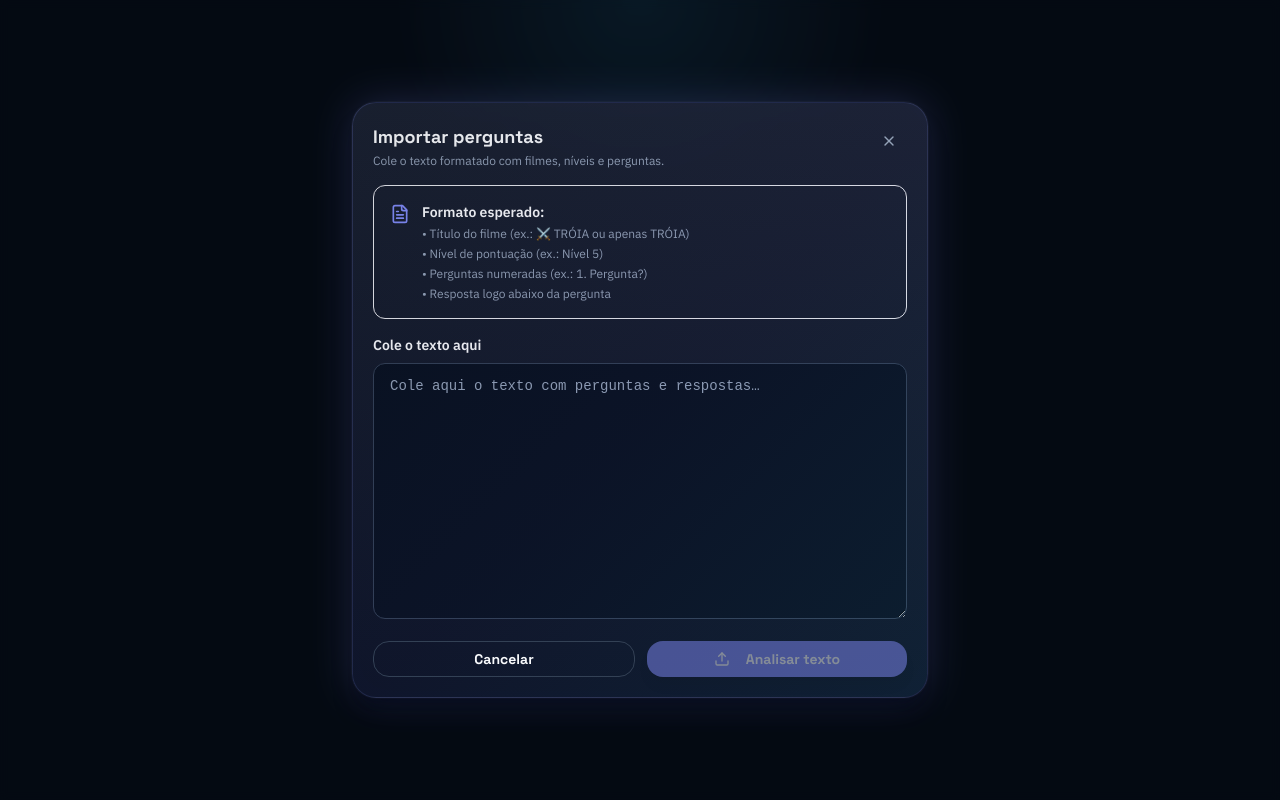
Scenario: QuestionImportModal › Parsing de Texto › deve identificar múltiplos filmes
The width and height of the screenshot is (1280, 800).
Type "⚔️ TRÓIA Nível 5 1. Pergunta 1? Resposta 1 LILO & STITCH Nível 10 1. Pergunta 2? Resposta 2" into the text box with placeholder "Cole aqui o texto com perguntas e respostas…" at (640, 491), box 373,363 -> 907,619
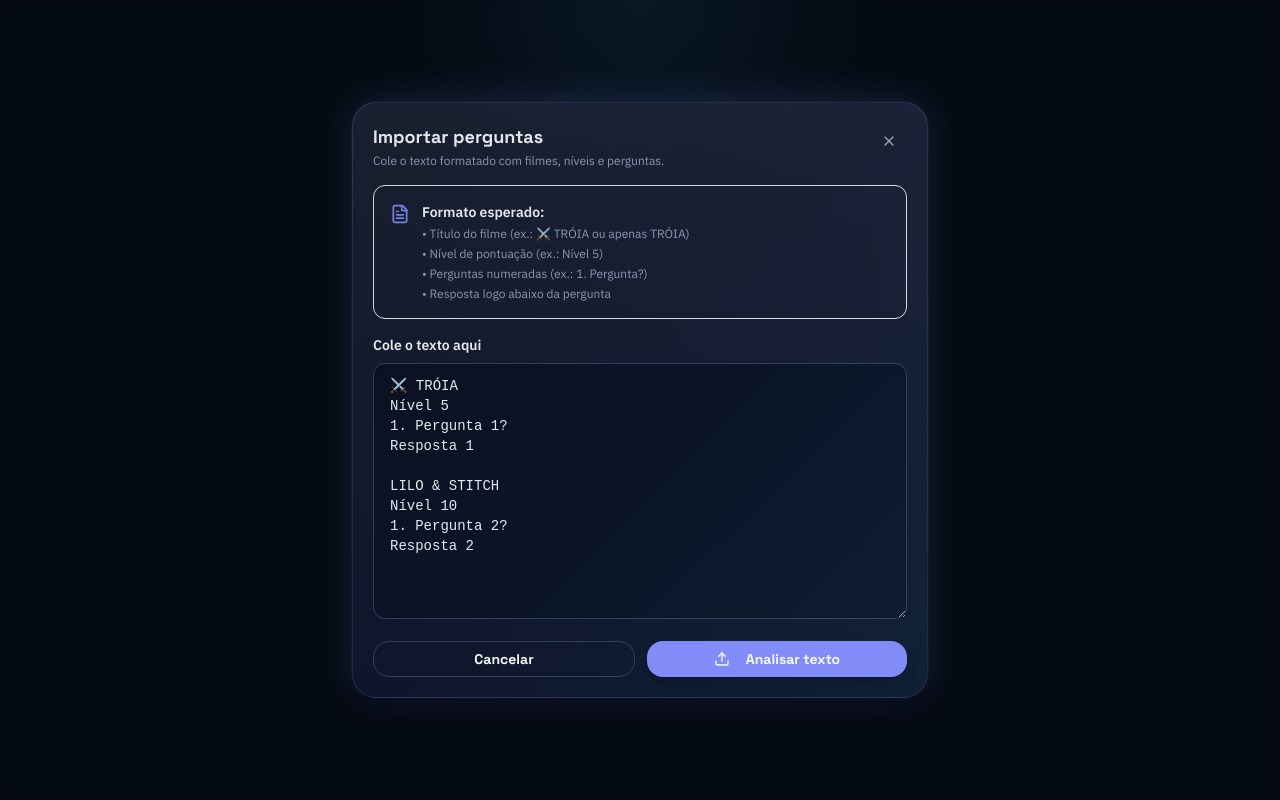
Click the button "Analisar texto" at (777, 659), box 647,641 -> 907,677
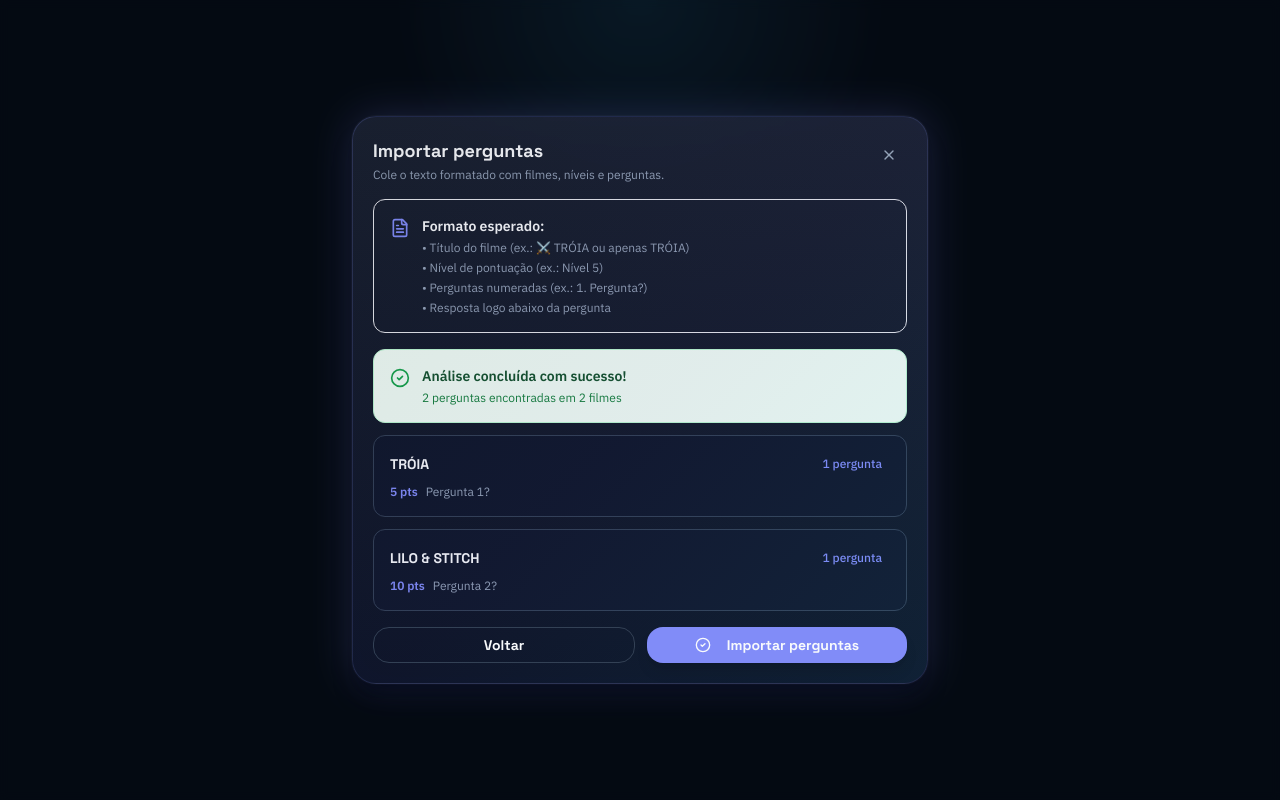
Result: the text "Análise concluída com sucesso!" is shown at 422,366 -> 627,386
Result: the text "2 perguntas encontradas em 2 filmes" is shown at 422,390 -> 627,406
